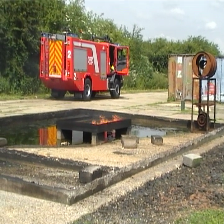fire_l: (92, 115, 123, 125)
